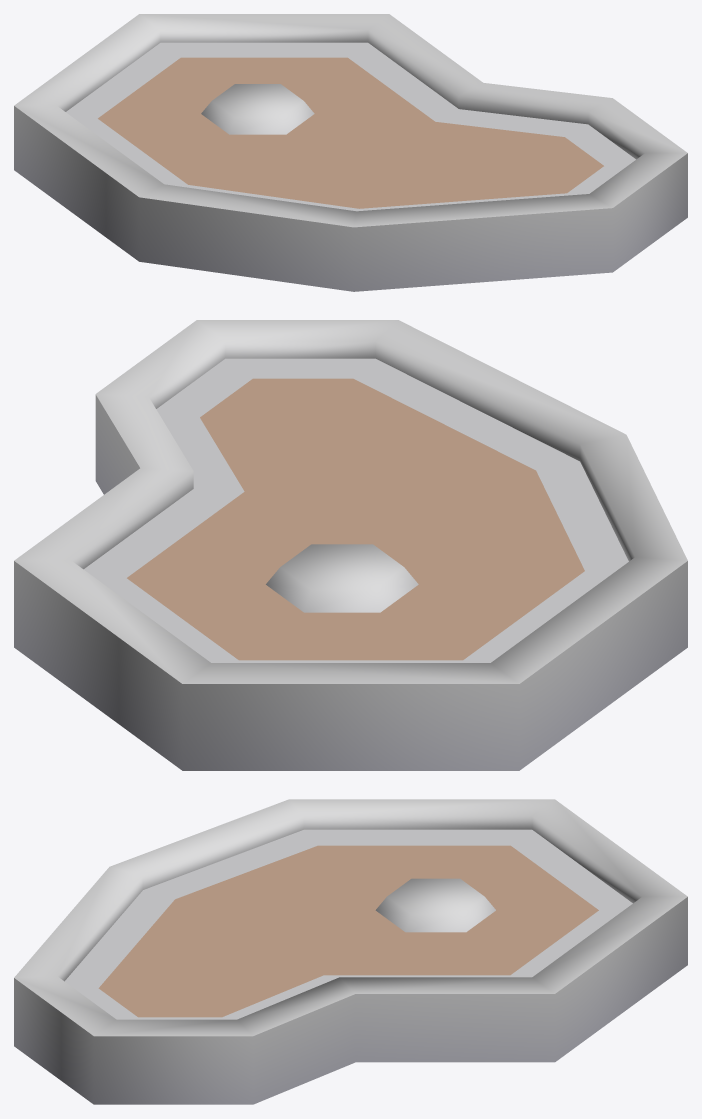
File: meat-raw.glb
3 views of the same model, one above another, from view 1: azimuth 30°, elevation 25°; view 2: azimuth 150°, elevation 25°; view 3: azimuth 270°, elevation 25° (orthographic). The views are drawn at different scales.
Parts seen in each view (by area): view 1: meat-raw; view 2: meat-raw; view 3: meat-raw.
Boxes of the visible parts, <box> form: meat-raw: <box>14,14,687,291</box>; meat-raw: <box>14,320,687,770</box>; meat-raw: <box>14,799,687,1104</box>.
Bounding box in the file's own units: 0.4785 × 0.0645 × 0.5754.
